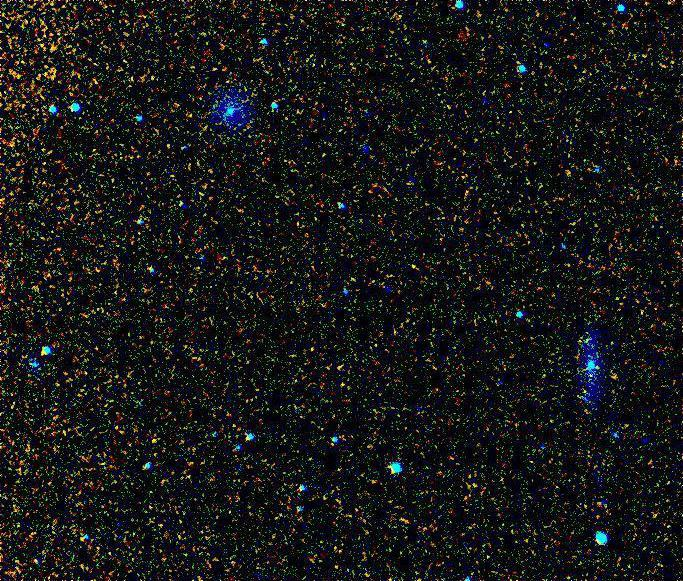star: (602, 366, 632, 396)
